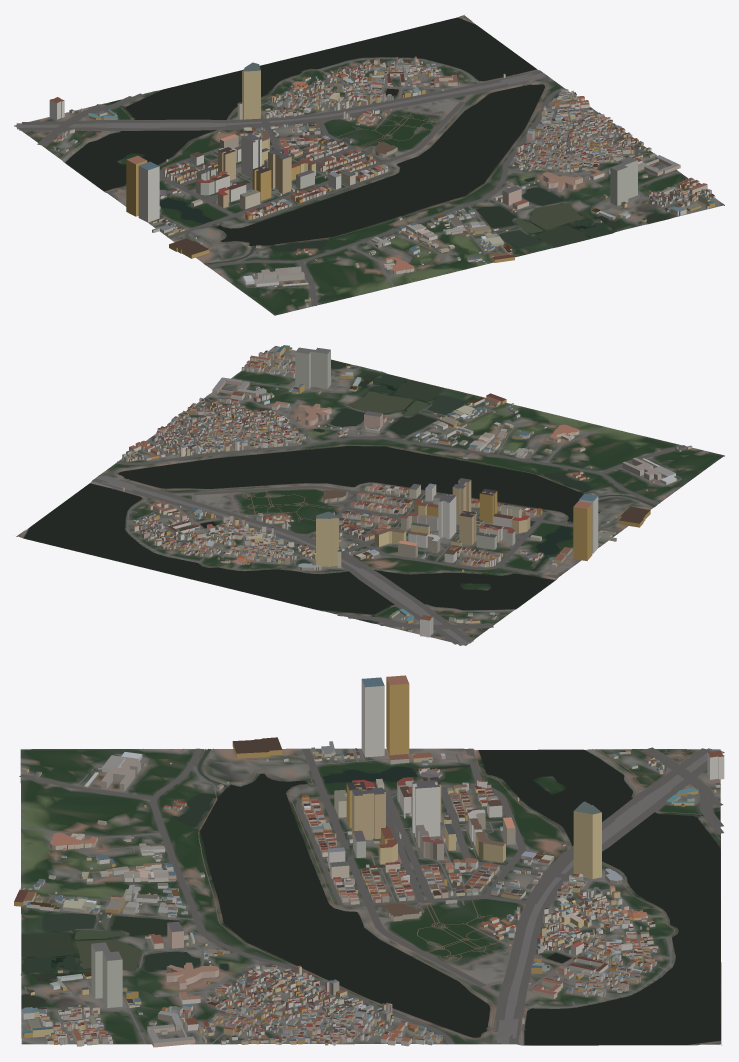
3 views of the same model, one above another, from view 1: azimuth 30°, elevation 25°; view 2: azimuth 150°, elevation 25°; view 3: azimuth 270°, elevation 25° (orthographic). The views are drawn at different scales.
Parts seen in each view (by area): view 1: ground, buildings, water, roads; view 2: ground, buildings, water, roads; view 3: ground, water, buildings, roads.
Boxes of the visible parts, x1=… form: ground: x1=14, y1=15, x2=724, y2=315; buildings: x1=49, y1=56, x2=715, y2=307; water: x1=65, y1=17, x2=669, y2=264; roads: x1=16, y1=15, x2=702, y2=305; ground: x1=16, y1=346, x2=724, y2=645; buildings: x1=122, y1=345, x2=692, y2=637; water: x1=24, y1=359, x2=655, y2=622; roads: x1=16, y1=353, x2=686, y2=645; ground: x1=20, y1=748, x2=721, y2=1045; water: x1=21, y1=749, x2=720, y2=1044; buildings: x1=14, y1=675, x2=724, y2=1047; roads: x1=19, y1=747, x2=724, y2=1045.
Bounding box in the file's own units: 1447 × 161 × 1424.
